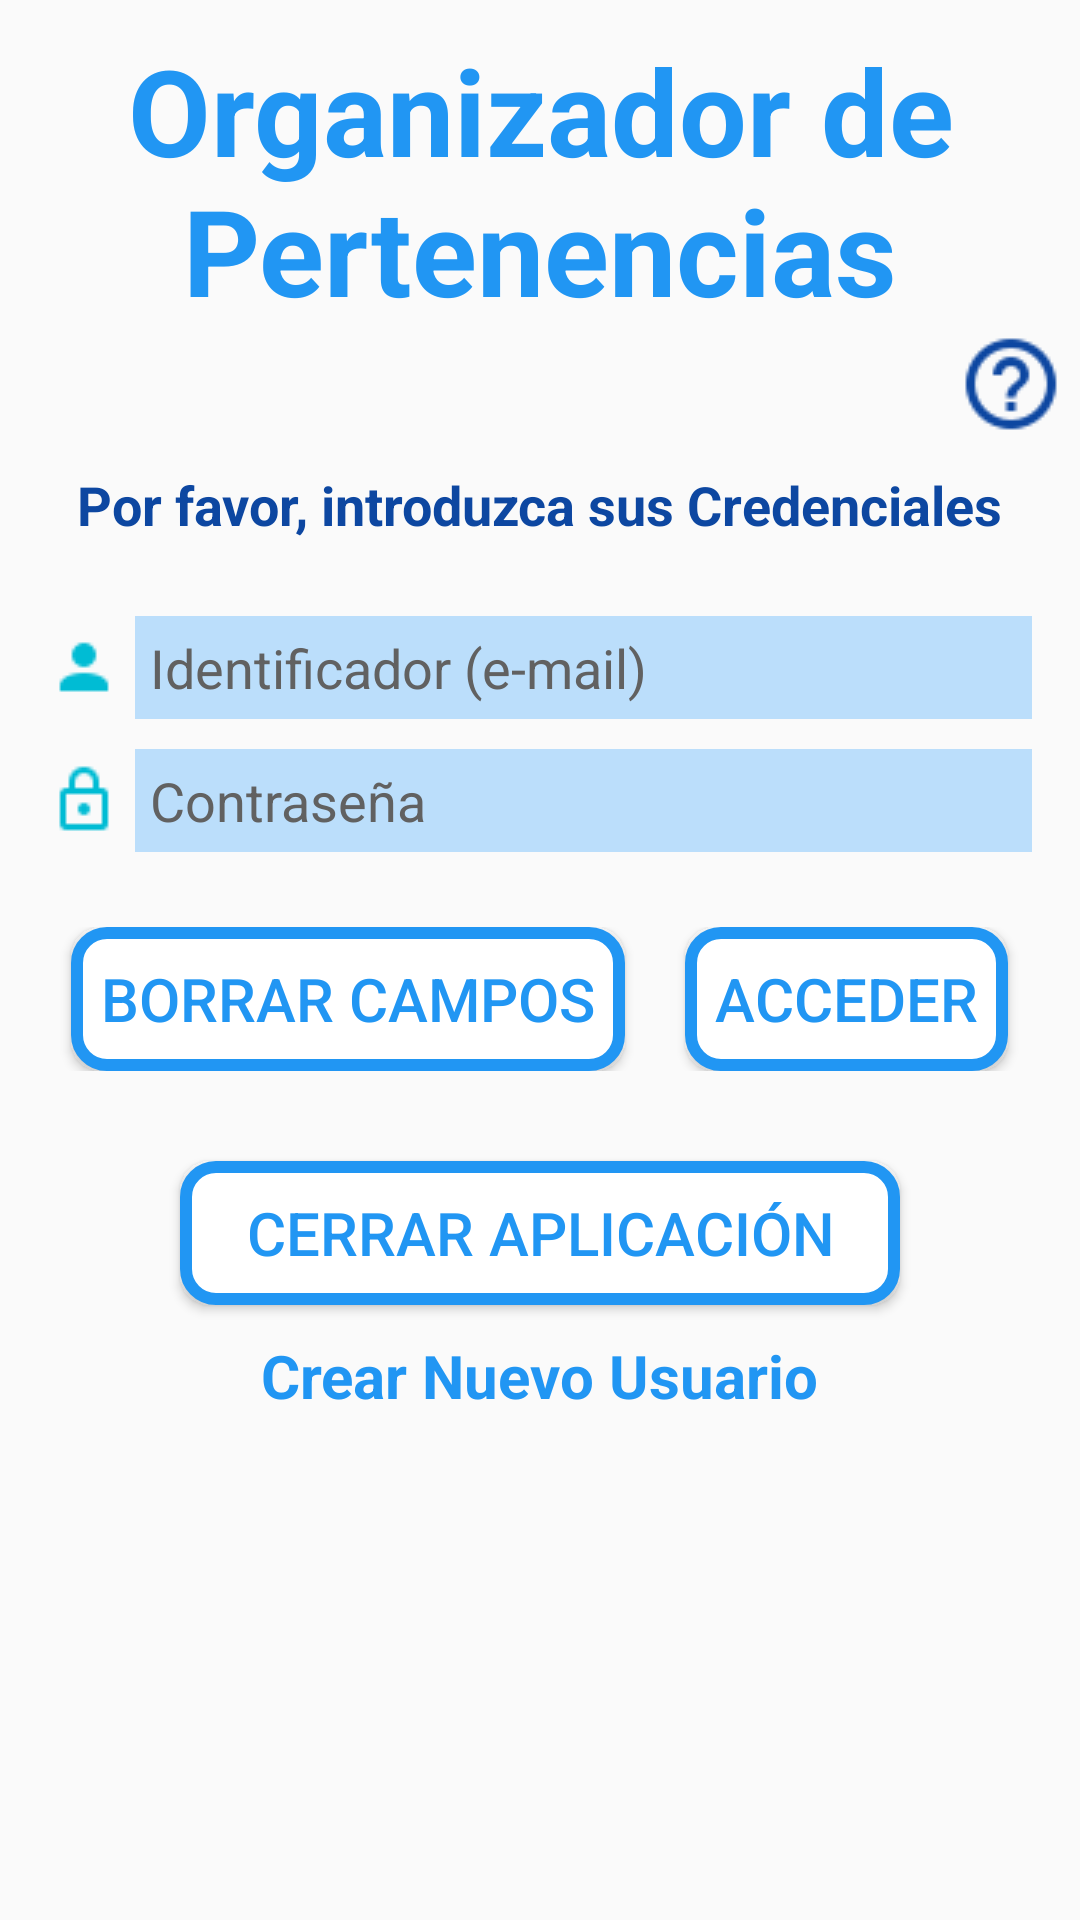

Where to tap for icons on this 1080w x 1920h app screen, as (x=x, y=y):
account: (x=84, y=667)
iconopass: (x=84, y=798)
